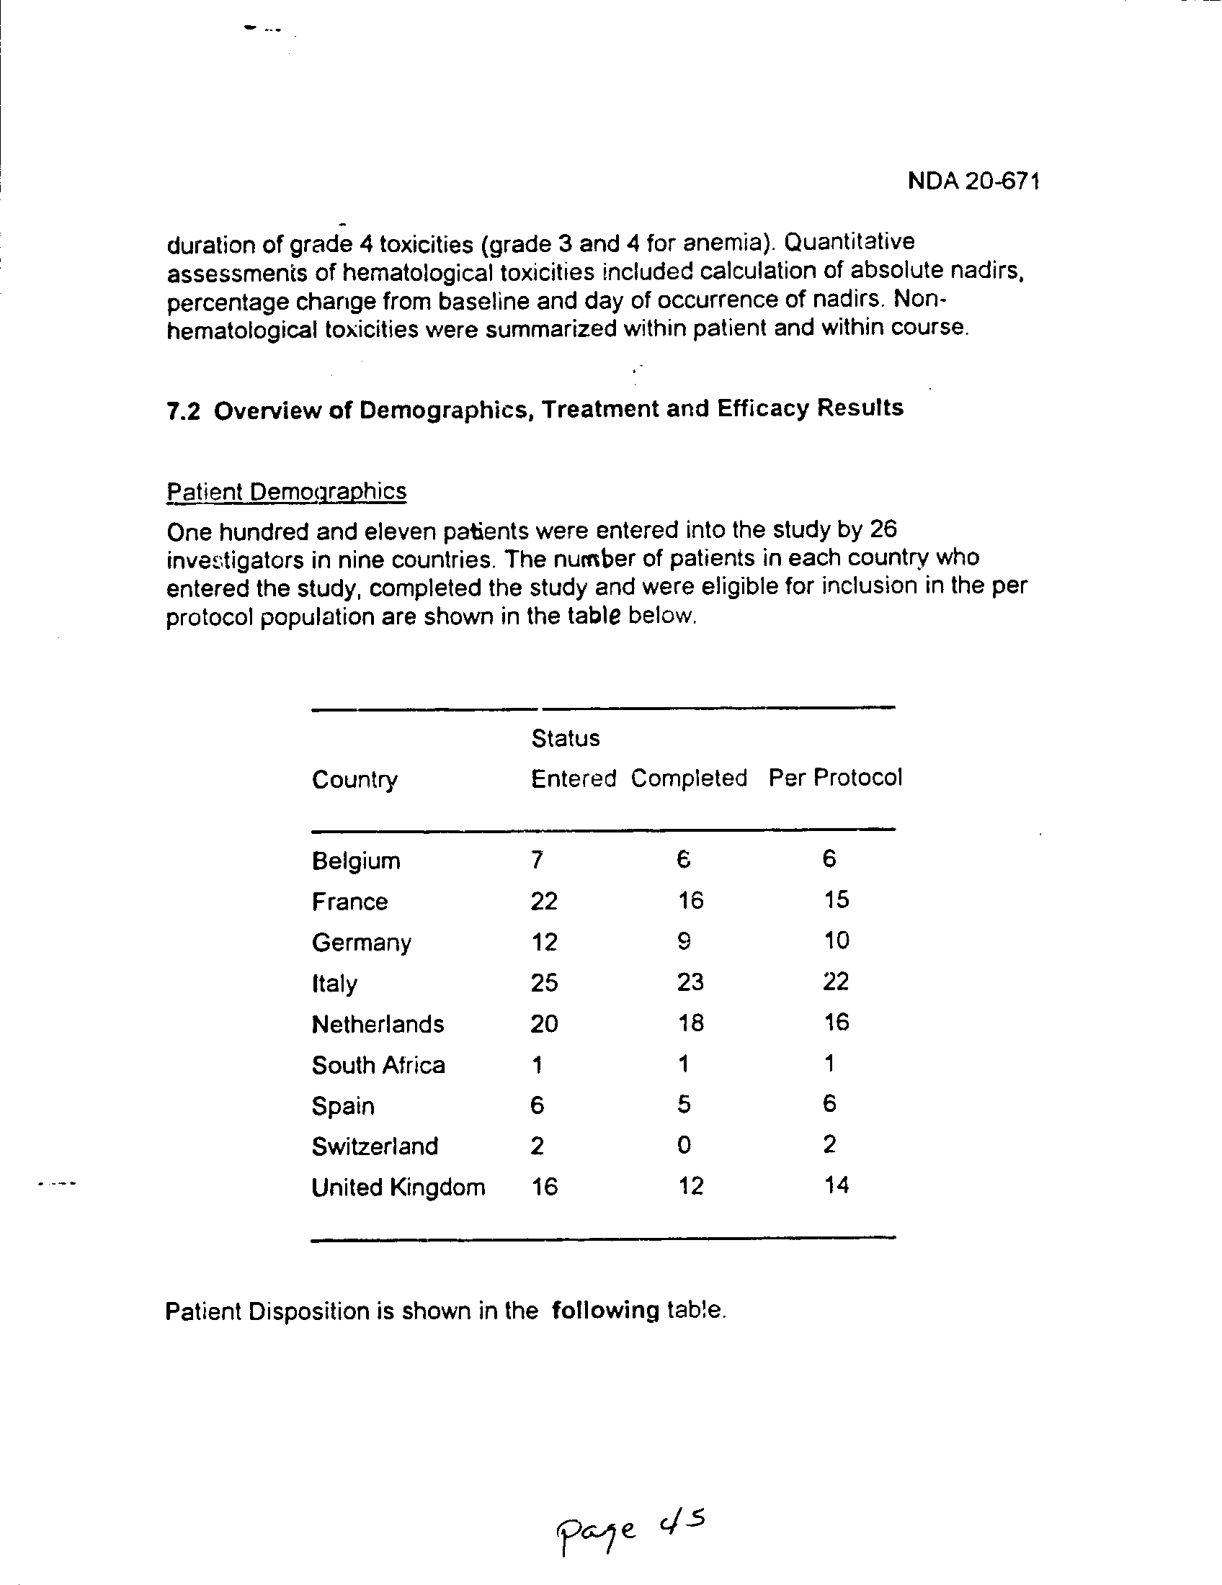partial_lined: (305, 707, 905, 1244)
